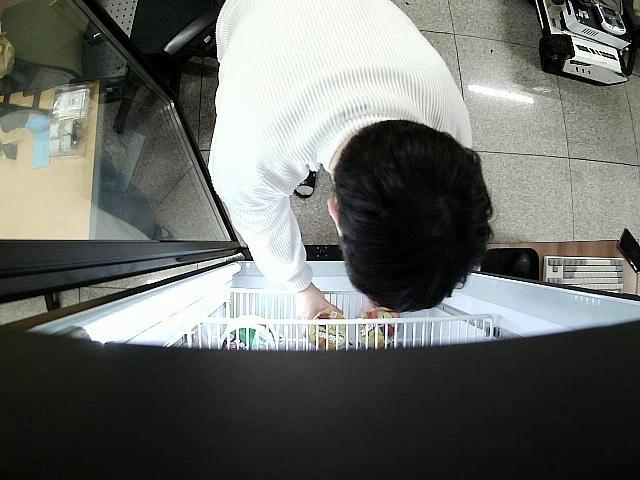04_chapagetti_S: (307, 308, 348, 348), (360, 310, 398, 350)
